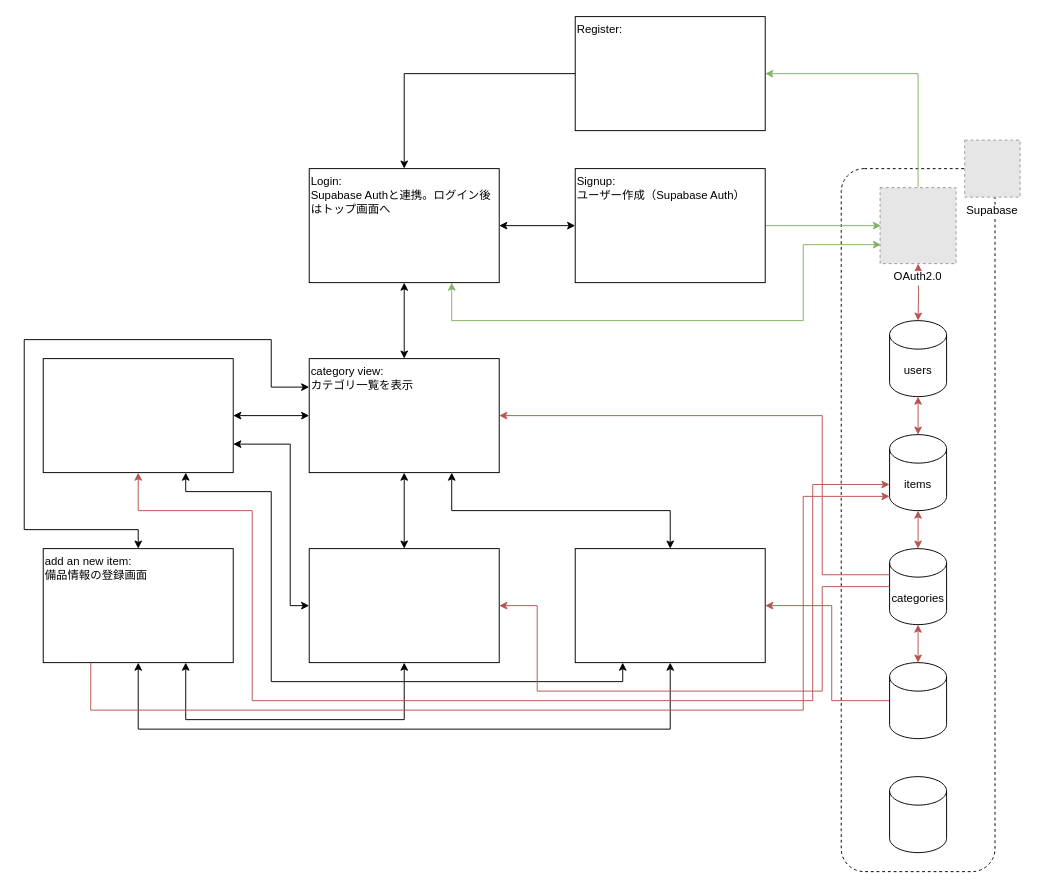
Image size: 1037x888. Some labels were removed from this diagram. Grey dashed boxes stand in for pictures. The centre of each missing label's shape, as x and y in pixels:
"edit an item info : 備品情報の編集画面" goes at (137,415).
"item_logs" goes at (918,814).
"list view in category: 選択したカテゴリの備品一覧" goes at (403,605).
"list view in vendor: ベンダー別の備品一覧" goes at (669,605).
"vendors" goes at (918,700).
